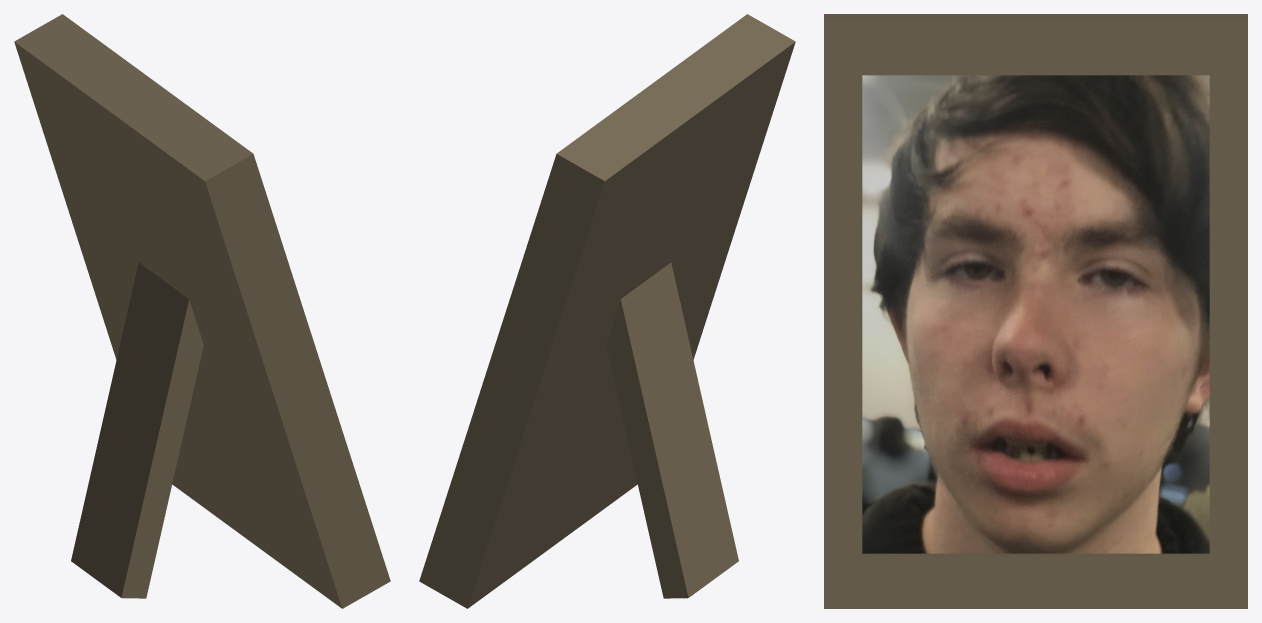
The model's file is ColinFrame.fbx.
The picture shows the model from 3 angles, left to right: view 1: azimuth 30°, elevation 25°; view 2: azimuth 150°, elevation 25°; view 3: azimuth 270°, elevation 25°; orthographic projection. The views are drawn at different scales.
Parts seen in each view (by area): view 1: pCube3; view 2: pCube3; view 3: pCube3.
Part boxes in pixels (box(x1,y1,x2,y2)): pCube3: box(14, 14, 390, 608); pCube3: box(419, 14, 795, 608); pCube3: box(824, 14, 1247, 608).
Size of the model in its own units: 0.7127 by 1.67 by 1.18.
